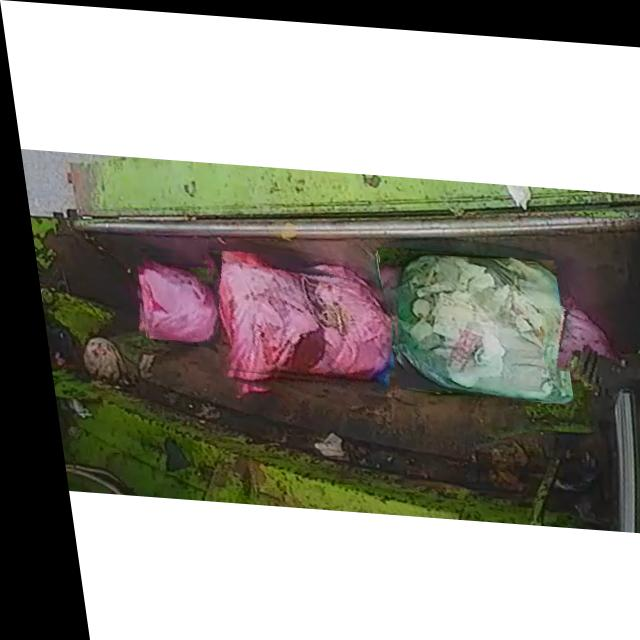general_trashbag: (379, 249, 563, 396)
other_trashbag: (197, 248, 383, 375), (134, 260, 208, 340), (534, 302, 607, 364)
